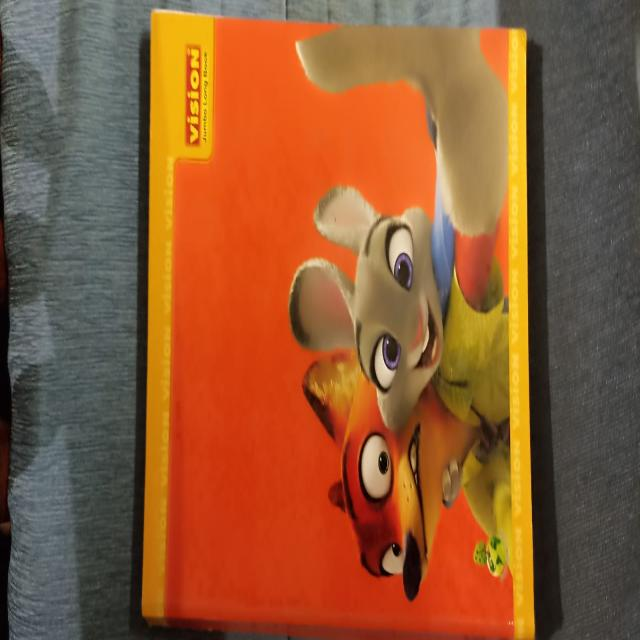book: (146, 10, 540, 640)
